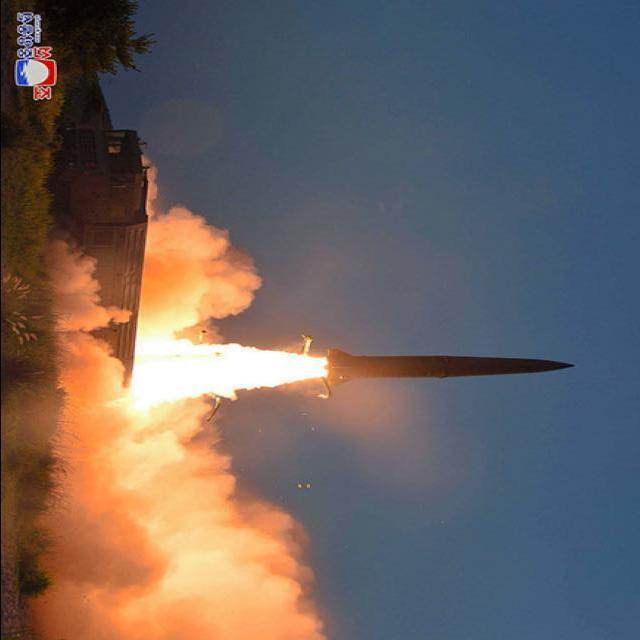missile: (323, 350, 581, 398)
